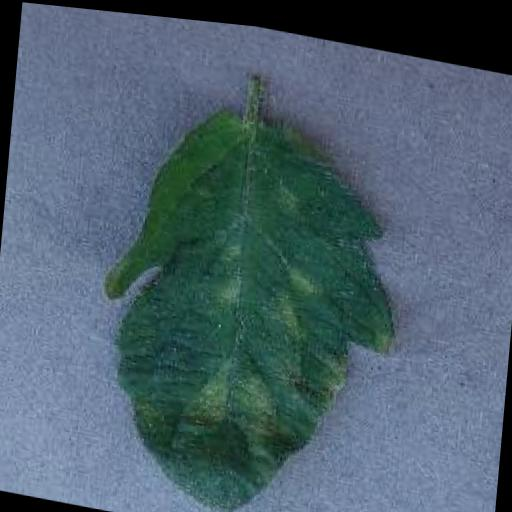Leaf Mold: (83, 75, 418, 512)
